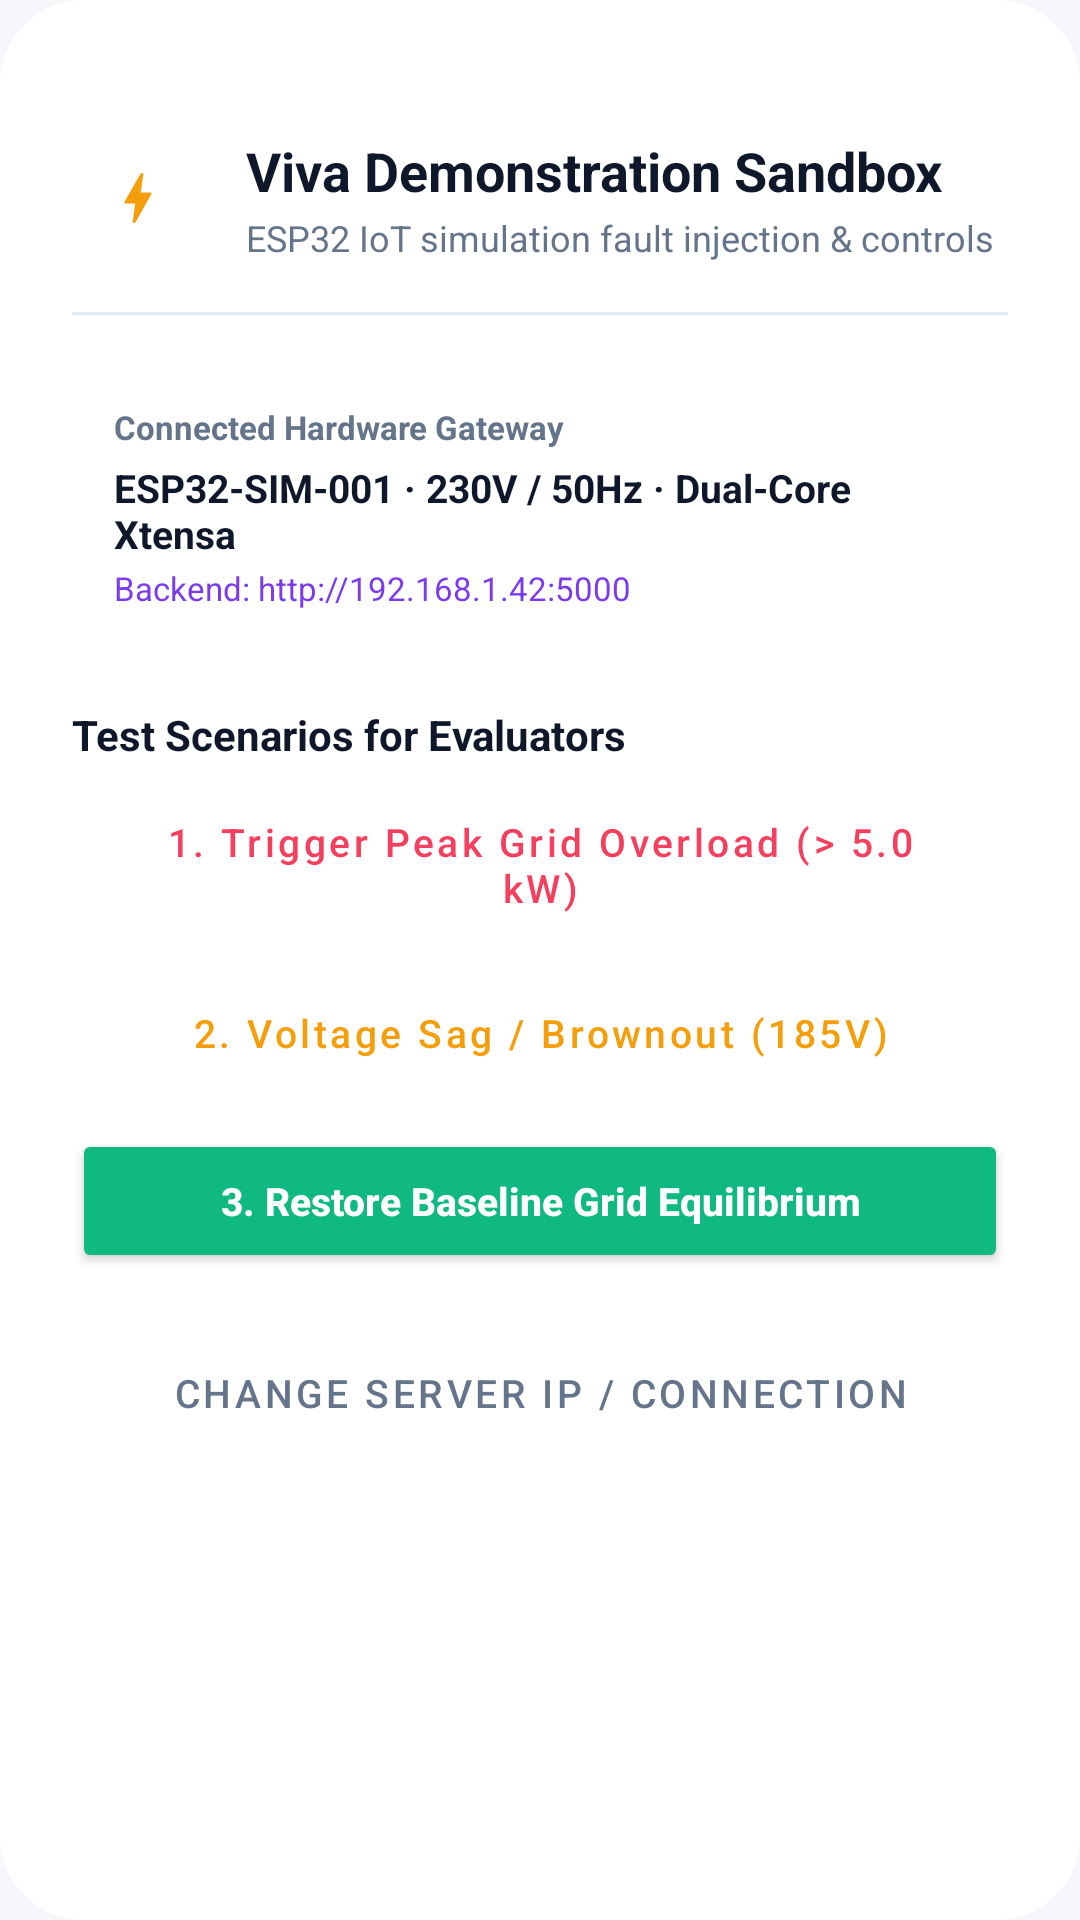

Icon bounding boxes for this 1080×1920 phone screenshot, format (x1, y1, x2, y2):
bolt: (124, 173, 152, 223)
